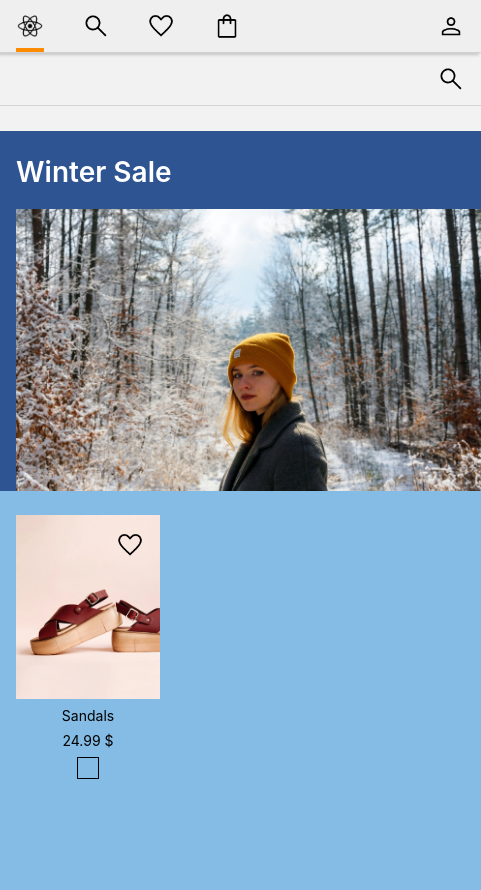
Register a user › should show an error if the email is invalid
The image size is (481, 890).
Step 1. Click the element with test id "auth-link" → (451, 26), box [437,12,465,40]
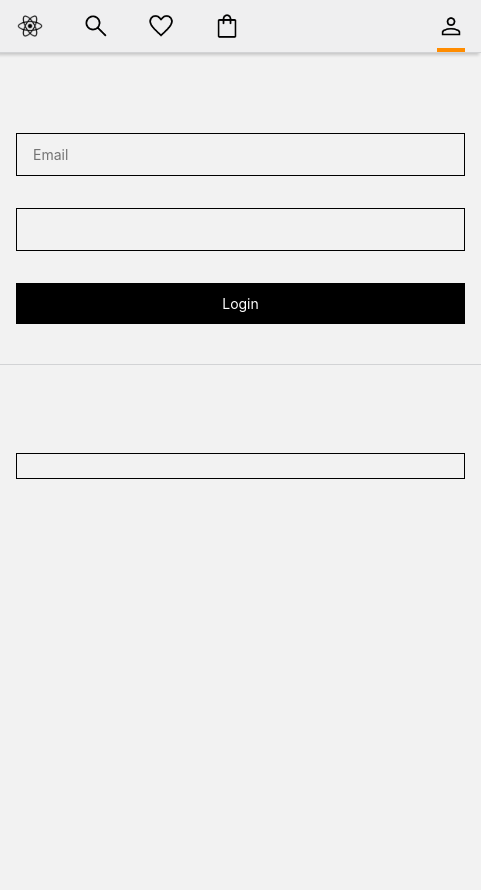
Step 2. Click the element with test id "auth-switch" → (241, 466), box [16,453,465,479]
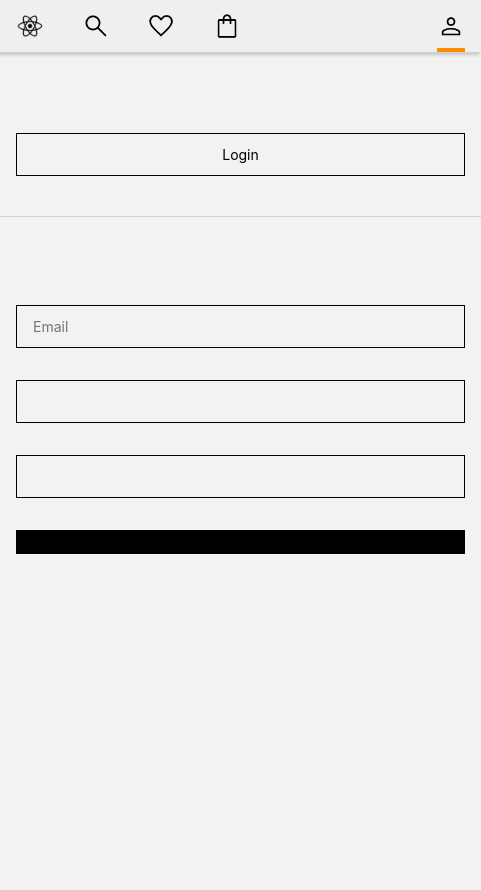
Step 3. Type "jane.doe.gmail.com" into the field with test id "registration-email" → (241, 327), box [16,305,465,348]
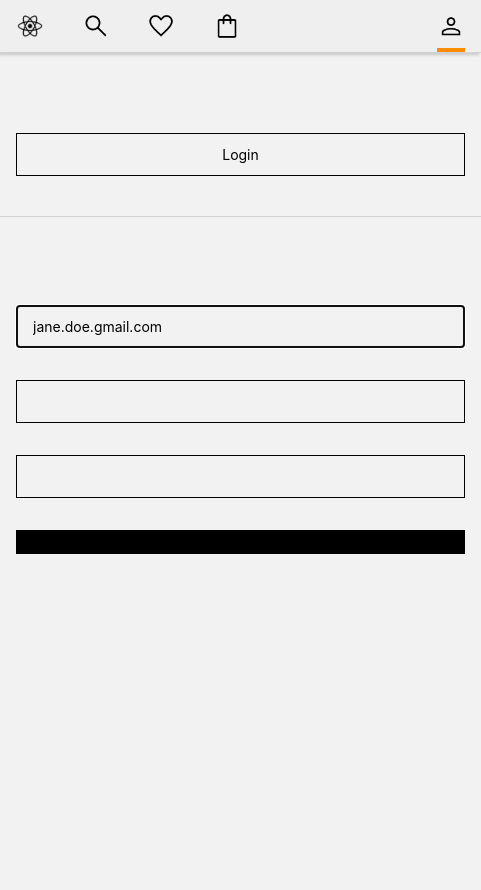
Step 4. Click the element with test id "registration-submit" → (241, 542), box [16,530,465,554]
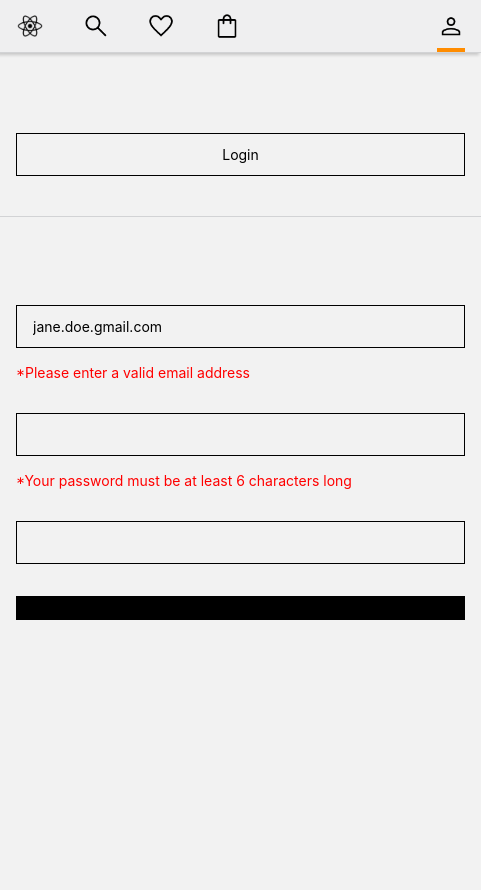
Now the text "Please enter a valid email address" is shown, box [25,364,250,381]
